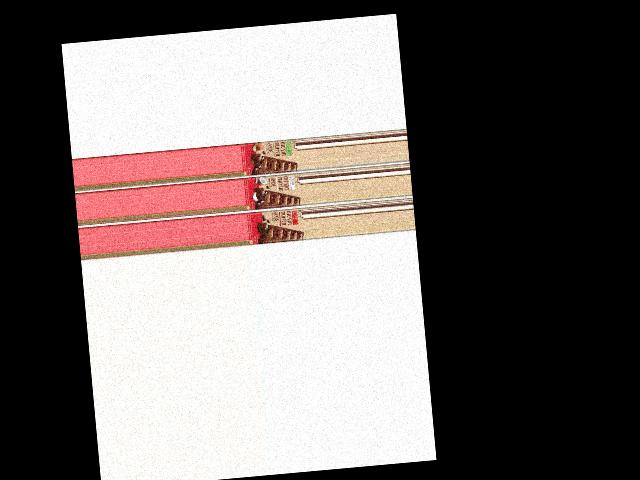chocolate: (239, 137, 298, 175)
